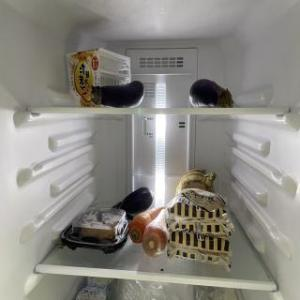carrot: (141, 207, 169, 255), (131, 207, 162, 243)
eggplant: (91, 80, 144, 109), (110, 186, 154, 219), (190, 76, 232, 108)
onion: (176, 167, 218, 200)
